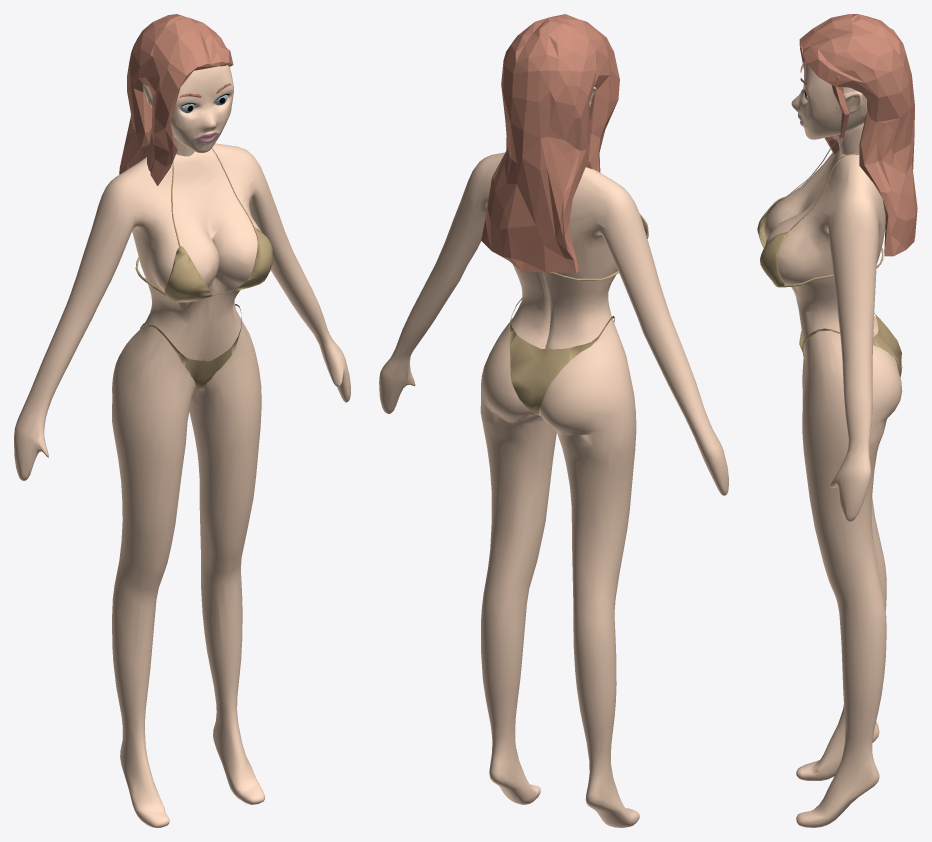
File: 1105_bej.fbx
The picture shows the model from 3 angles, left to right: view 1: azimuth 30°, elevation 25°; view 2: azimuth 150°, elevation 25°; view 3: azimuth 270°, elevation 25°; orthographic projection. The views are drawn at different scales.
Parts seen in each view (by area): view 1: Cube.019; view 2: Cube.019; view 3: Cube.019.
Part boxes in pixels (x1=…): Cube.019: x1=14, y1=14, x2=350, y2=827; Cube.019: x1=379, y1=14, x2=728, y2=827; Cube.019: x1=757, y1=14, x2=917, y2=827.
Size of the model in its own units: 2101 by 4724 by 875.
